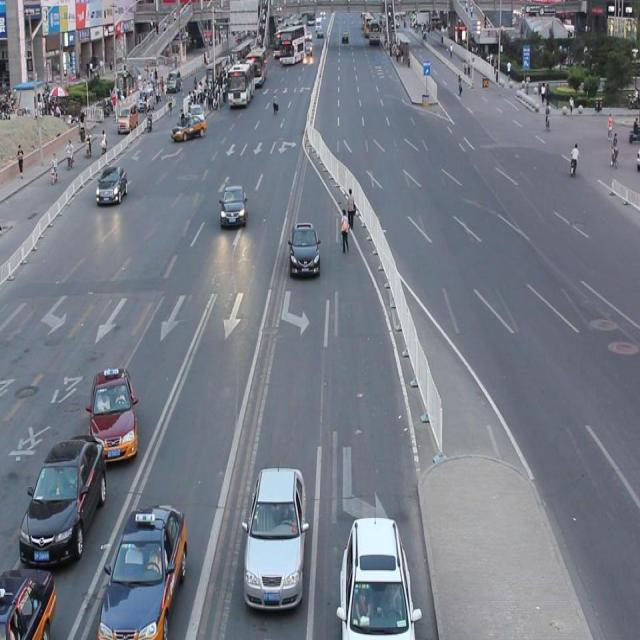car: (96, 498, 188, 640), (20, 431, 106, 565), (338, 512, 416, 640), (240, 463, 306, 612), (89, 366, 139, 464), (1, 565, 56, 640), (288, 219, 320, 279), (96, 163, 129, 207), (220, 182, 248, 228)
